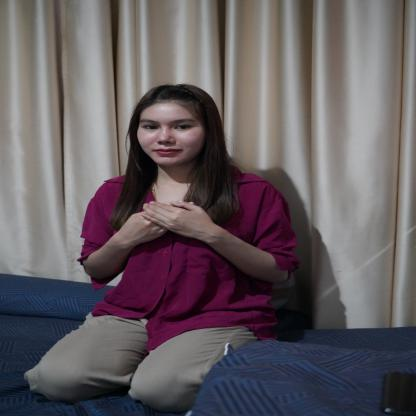Grieve: (97, 195, 236, 252)
